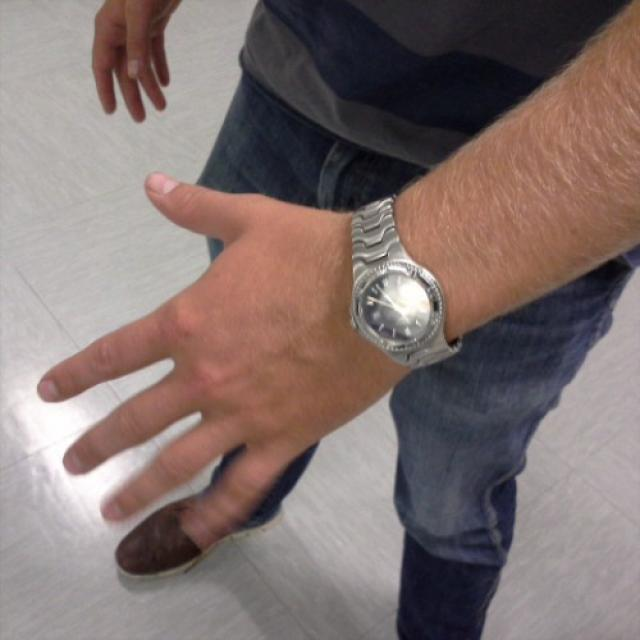paper: (34, 170, 350, 544)
